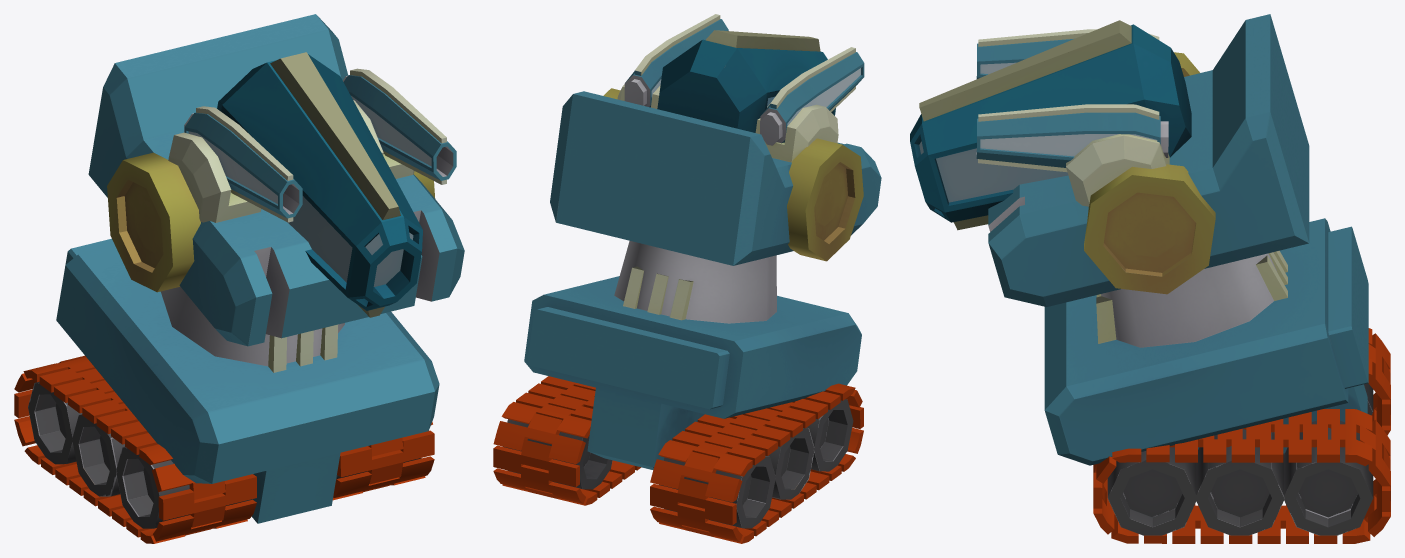
File: player_move_1_upgrade4.obj
3 views of the same model, side by side, from view 1: azimuth 30°, elevation 25°; view 2: azimuth 150°, elevation 25°; view 3: azimuth 270°, elevation 25° (orthographic). The views are drawn at different scales.
Visible parts, largest first — view 1: Object004, Box038, Object012, Object011, Box042; view 2: Object004, Box038, Box042, Object011, Object012; view 3: Object004, Object011, Box042, Object012, Box038.
Boxes of the visible parts, bbox=[...] form: Object004: bbox=[56, 14, 464, 523]; Box038: bbox=[14, 355, 256, 543]; Object012: bbox=[184, 68, 456, 222]; Object011: bbox=[28, 382, 421, 528]; Box042: bbox=[333, 422, 434, 500]; Object004: bbox=[524, 30, 881, 469]; Box038: bbox=[650, 383, 863, 543]; Box042: bbox=[493, 376, 641, 505]; Object011: bbox=[503, 399, 853, 528]; Object012: bbox=[624, 14, 864, 145]; Object004: bbox=[910, 14, 1368, 465]; Object011: bbox=[1107, 383, 1373, 535]; Box042: bbox=[1093, 409, 1390, 543]; Object012: bbox=[976, 29, 1168, 172]; Box038: bbox=[1368, 328, 1390, 435].
Bounding box in the file's own units: 110 × 177 × 169.
Materials: 4 (2 with a texture image).
